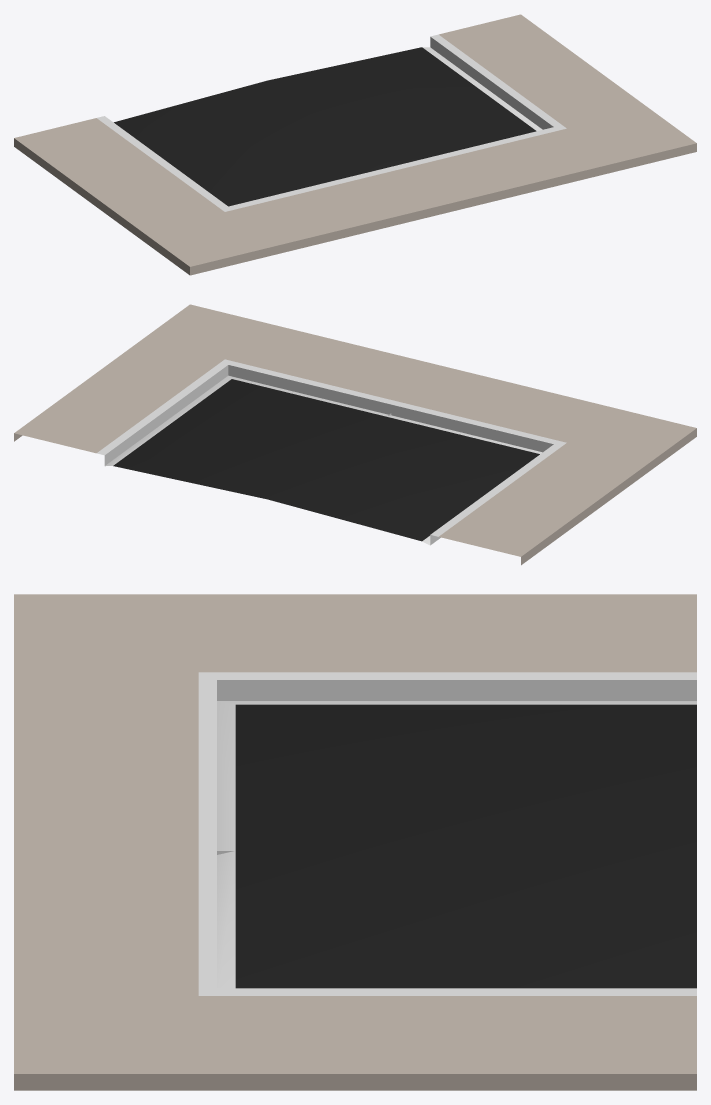
Rendered from Rua_Sem_Saida_3_Faixas.fbx.
The picture shows the model from 3 angles, top to bottom: view 1: azimuth 30°, elevation 25°; view 2: azimuth 150°, elevation 25°; view 3: azimuth 270°, elevation 25°; orthographic projection. The views are drawn at different scales.
Visible parts, largest first — view 1: Rua_Sem_Saida_3_Faixas; view 2: Rua_Sem_Saida_3_Faixas; view 3: Rua_Sem_Saida_3_Faixas.
Part boxes in pixels (left/top/right/bottom): Rua_Sem_Saida_3_Faixas: left=14, top=14, right=696, bottom=275; Rua_Sem_Saida_3_Faixas: left=14, top=304, right=696, bottom=565; Rua_Sem_Saida_3_Faixas: left=14, top=594, right=696, bottom=1090.
Bounding box in the file's own units: 1230 × 25 × 740.
